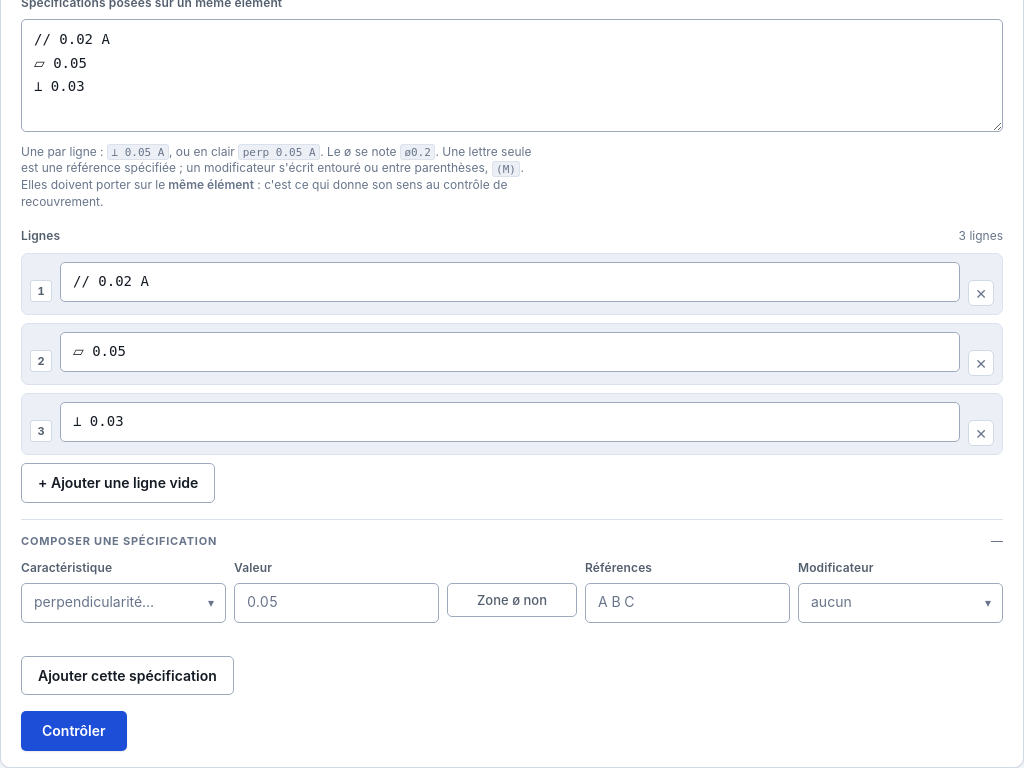
Test: écran de tolérancement géométrique › reste utilisable si le catalogue ne charge pas
This screenshot has width=1024, height=768.
(page scrolled)
Step 1. Click the 4th button named "Contrôler" → coordinates (74, 731), box top-left (21, 711), bottom-right (127, 751)
(page scrolled)
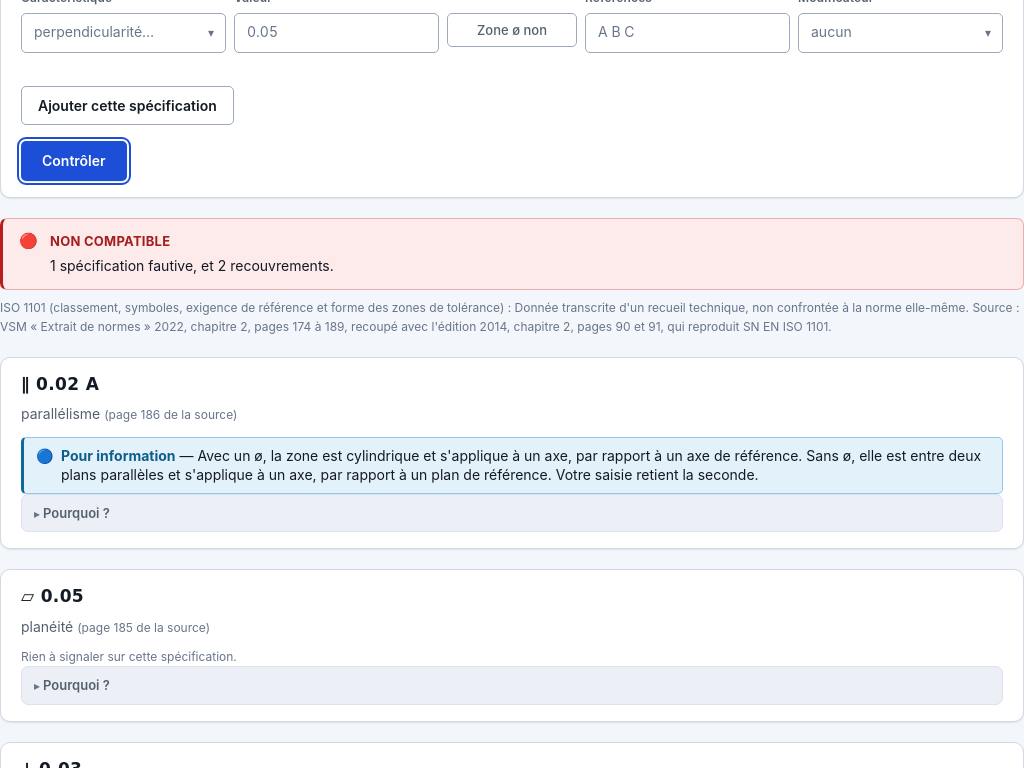
Expected: the 1st heading named "∥ 0.02 A" is shown, top-left (21, 374), bottom-right (99, 394)
